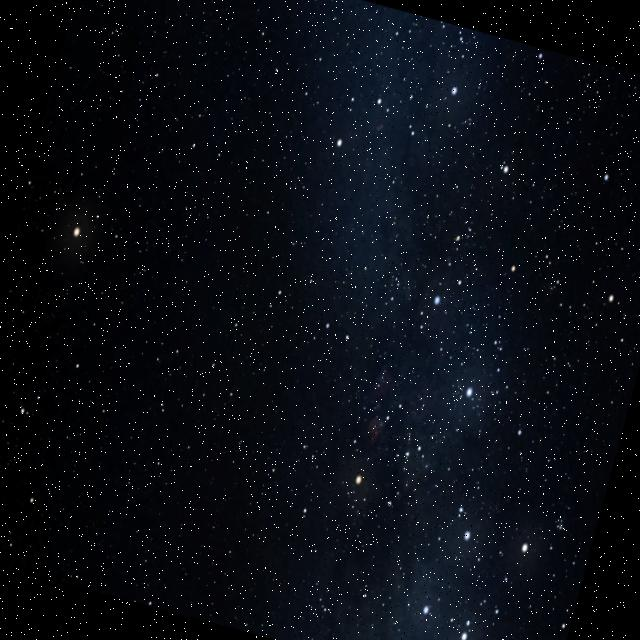Pyxis: (268, 284, 358, 344)
